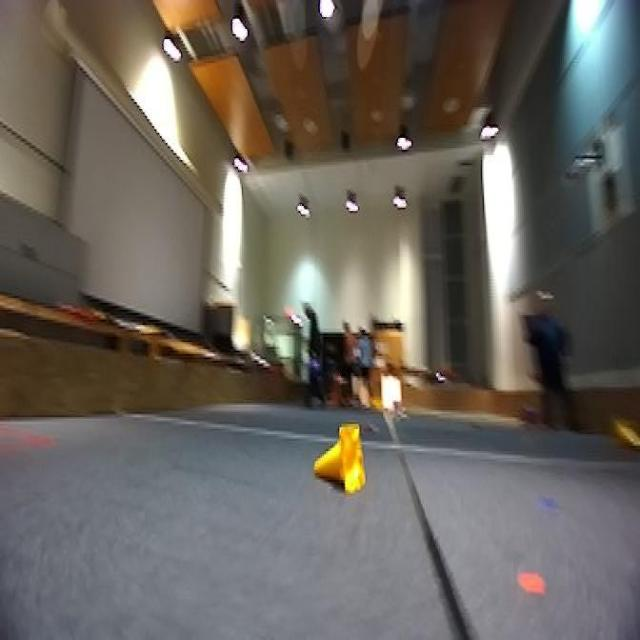frc_cone: (316, 422, 372, 499), (611, 414, 639, 449)
